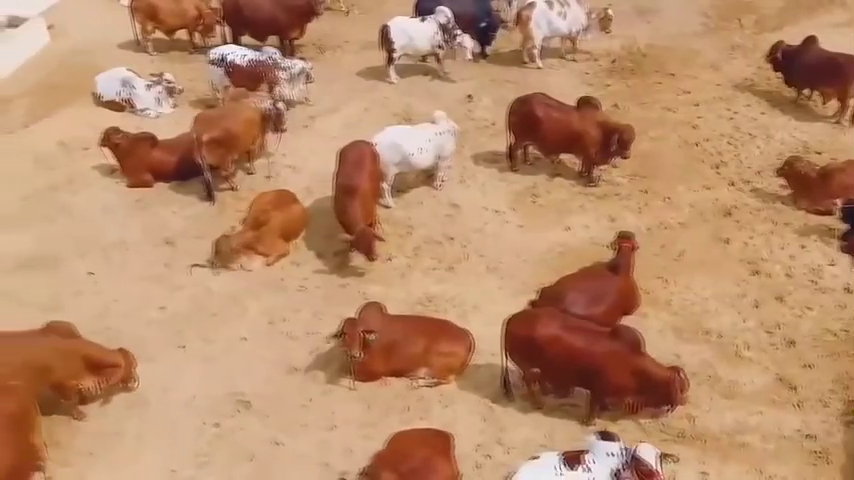bo: (493, 302, 693, 428), (324, 288, 483, 392), (499, 80, 638, 192), (2, 316, 136, 420), (488, 419, 697, 480), (534, 233, 659, 329), (322, 125, 399, 274), (369, 98, 461, 216), (188, 88, 296, 187), (207, 186, 314, 275), (205, 38, 316, 122), (372, 6, 482, 87), (762, 26, 849, 126), (508, 4, 625, 72), (90, 121, 200, 193), (408, 2, 511, 71), (117, 2, 221, 66), (82, 50, 179, 118), (770, 143, 854, 220), (216, 2, 328, 59), (352, 432, 471, 480), (2, 390, 58, 472)
